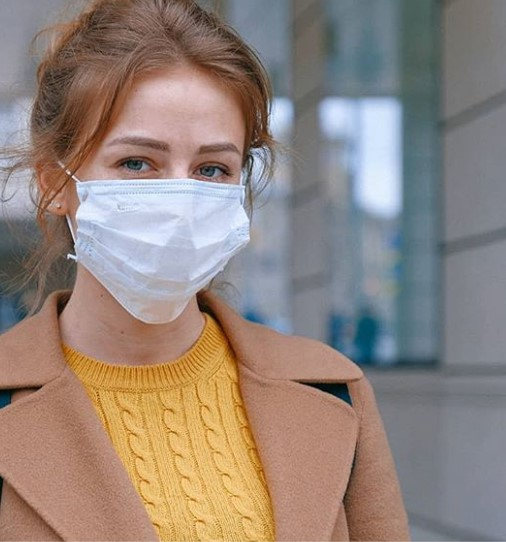face_with_mask: (45, 10, 263, 328)
